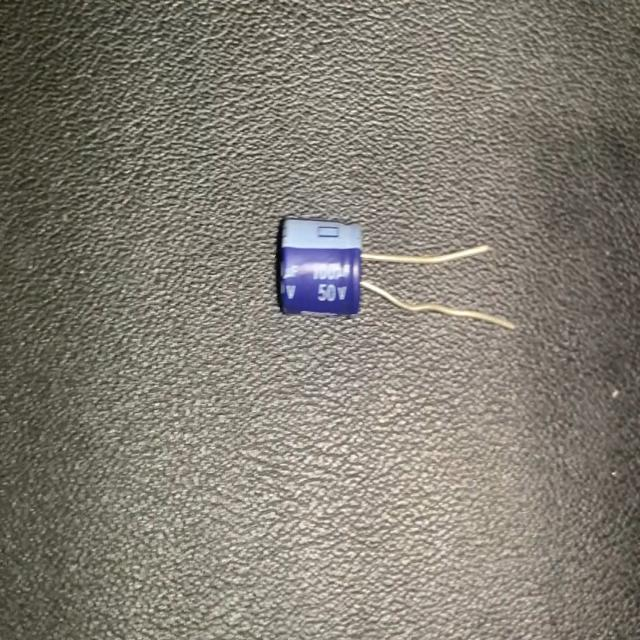capacitor: (273, 209, 524, 333)
